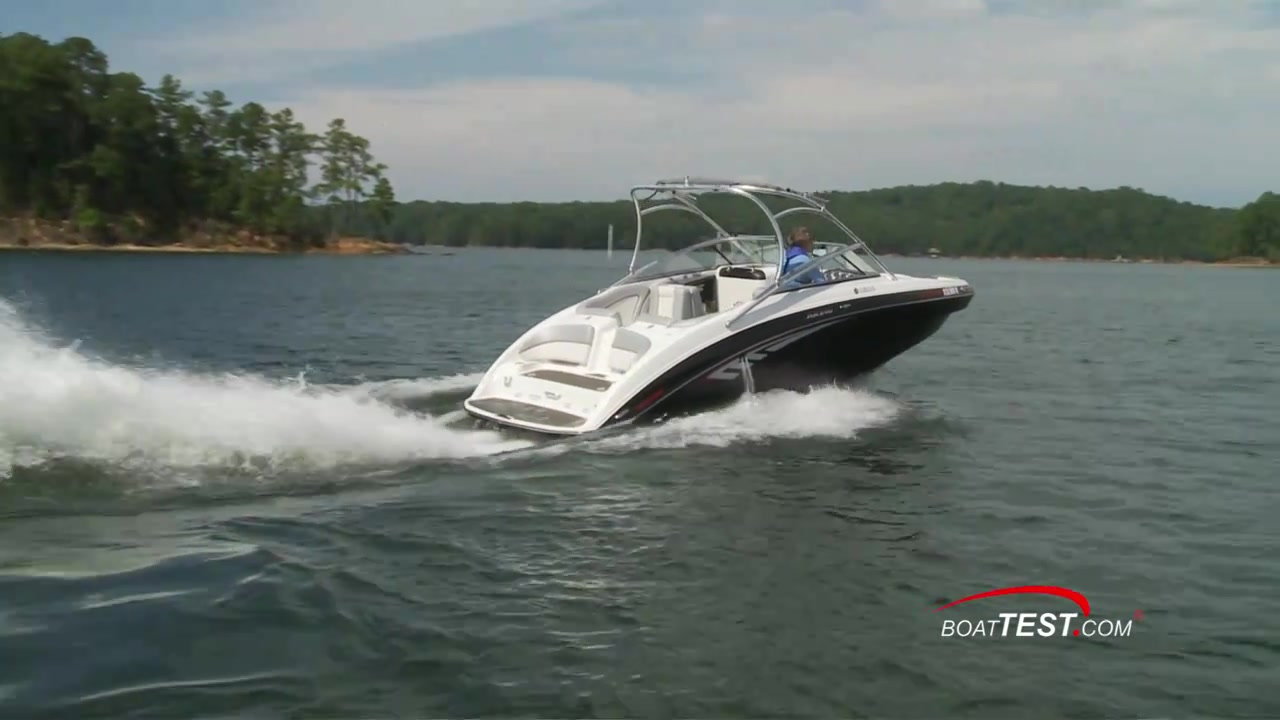boat: (459, 170, 979, 442)
